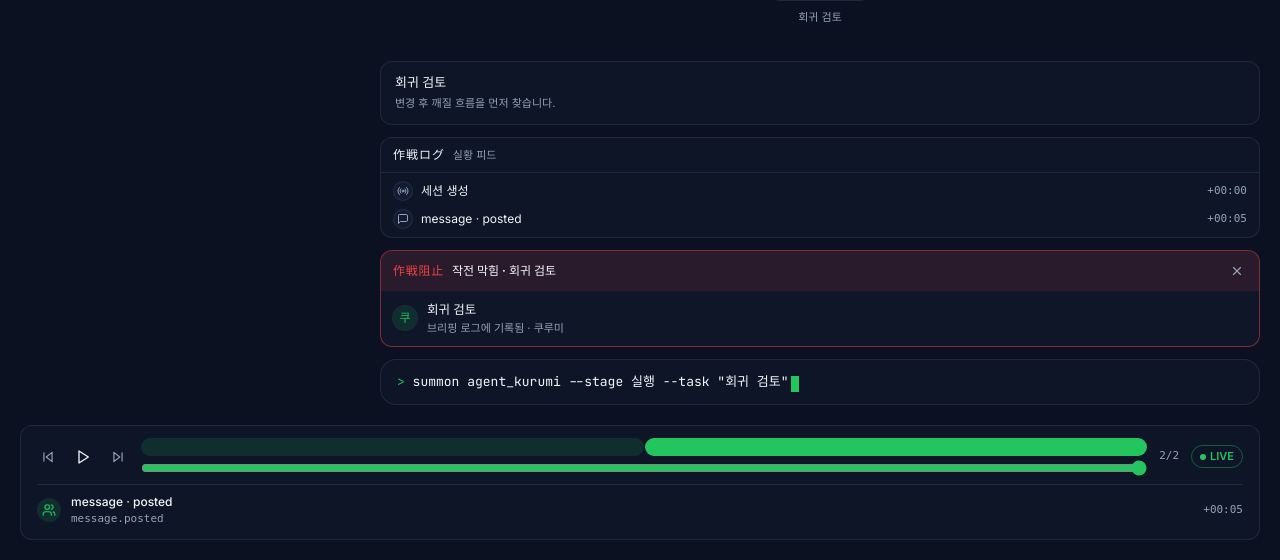
Test case: SummonTheater 실황 효과 (jsdom 실행동) › 종결 브리핑: blocked 증가 시 destructive 막힘 배너 + 수동 닫기
(page scrolled)
expect the message "作戦阻止 작전 막힘 · 회귀 검토 쿠 회귀 검토 브리핑 로그에 기록됨 · 쿠루미" is shown: met, box [380,250,1260,347]
expect the message with class "theater-v2__briefing" shows "작전 막힘": met, box [452,263,499,278]
Click the button with class "theater-v2__briefing-close". click: (1237, 271)
box: [1225,259,1249,283]
(page scrolled)
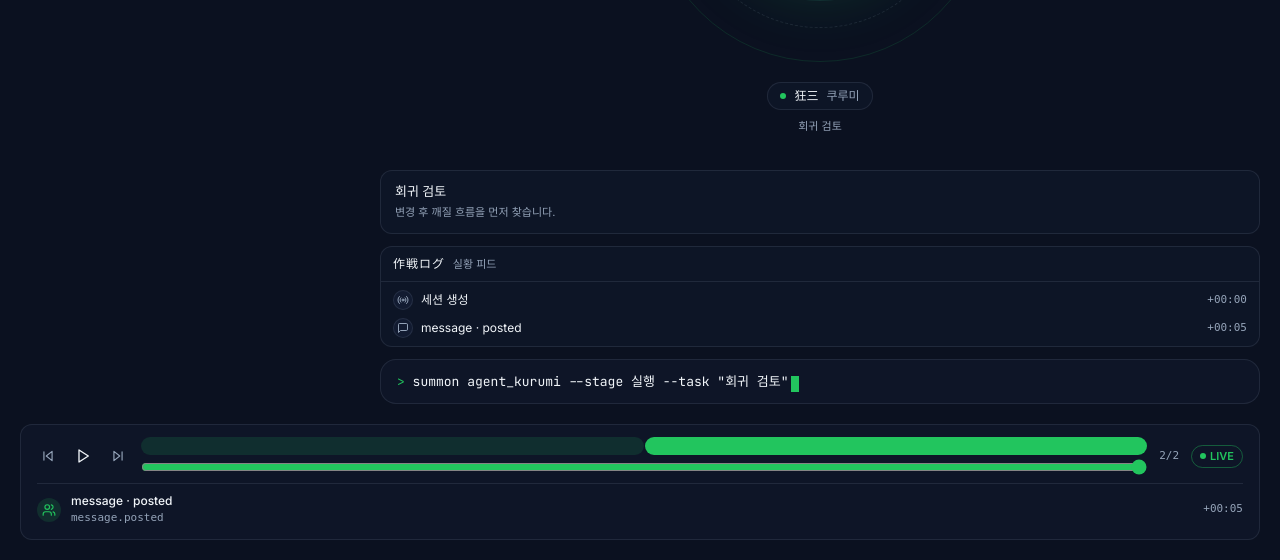
expect the message with class "theater-v2__briefing" is gone: met
